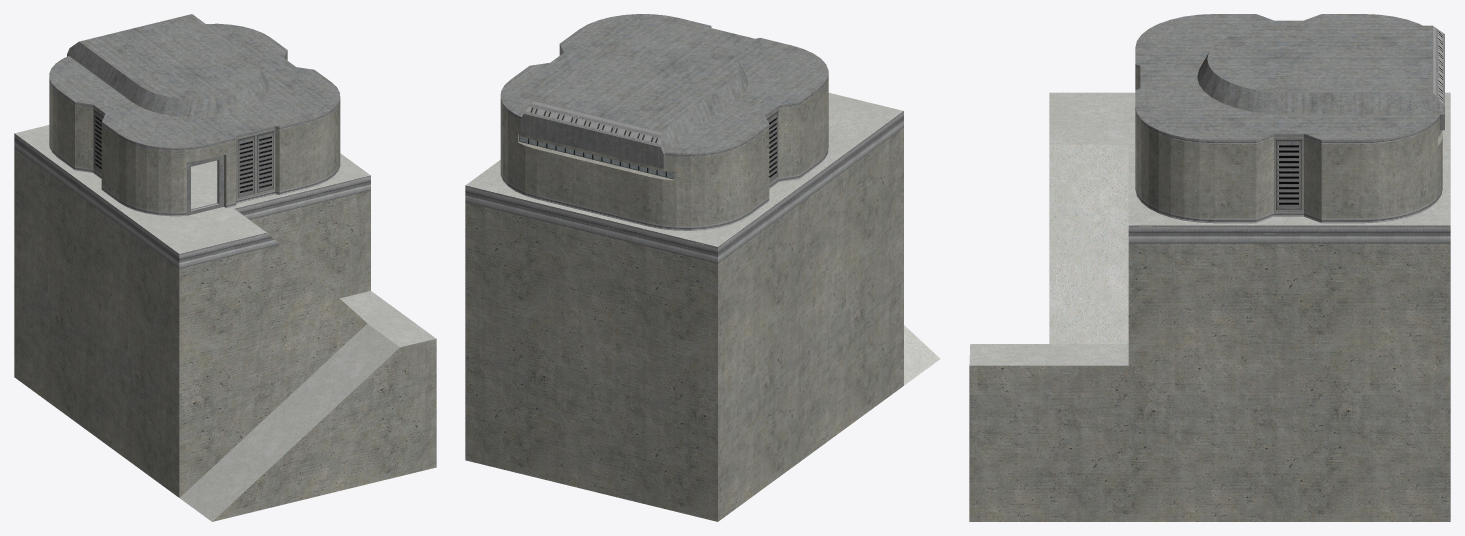
File: ply_all_house_sm_s02_fp1_r0_mesh_l0.fbx
3 views of the same model, side by side, from view 1: azimuth 30°, elevation 25°; view 2: azimuth 150°, elevation 25°; view 3: azimuth 270°, elevation 25° (orthographic). The views are drawn at different scales.
Parts seen in each view (by area): view 1: mesh_node; view 2: mesh_node; view 3: mesh_node.
Part boxes in pixels (x1,y1,x2,y2): mesh_node: (14, 14, 436, 521); mesh_node: (465, 14, 940, 521); mesh_node: (969, 14, 1450, 521).
Bounding box in the file's own units: 15.87 × 22.12 × 24.27.
